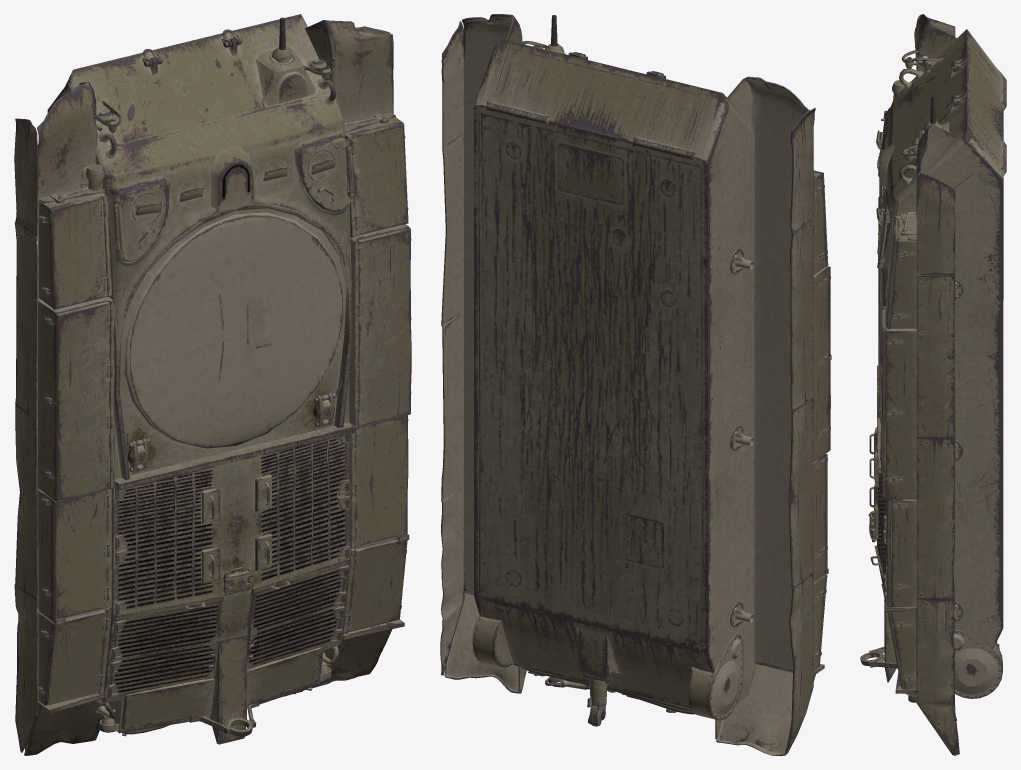
The model's file is Hull.glb.
3 renders of one model, left to right at view 1: azimuth 30°, elevation 25°; view 2: azimuth 150°, elevation 25°; view 3: azimuth 270°, elevation 25°, orthographic. The views are drawn at different scales.
Visible parts, largest first — view 1: set_0_group_0; view 2: set_0_group_0; view 3: set_0_group_0.
Boxes of the visible parts, x1=… form: set_0_group_0: x1=14, y1=14, x2=411, y2=755; set_0_group_0: x1=440, y1=14, x2=831, y2=755; set_0_group_0: x1=860, y1=14, x2=1006, y2=755.
Size of the model in its own units: 3.18 by 5.76 by 1.24.
1 material, 1 textured.
